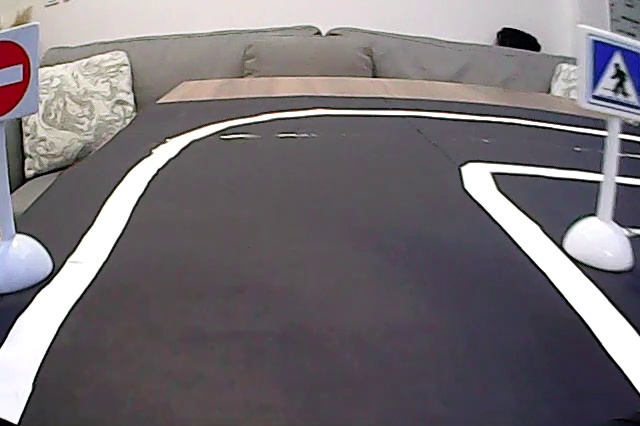do not enter: (1, 28, 39, 119)
pedestrian crossing: (583, 26, 640, 117)
